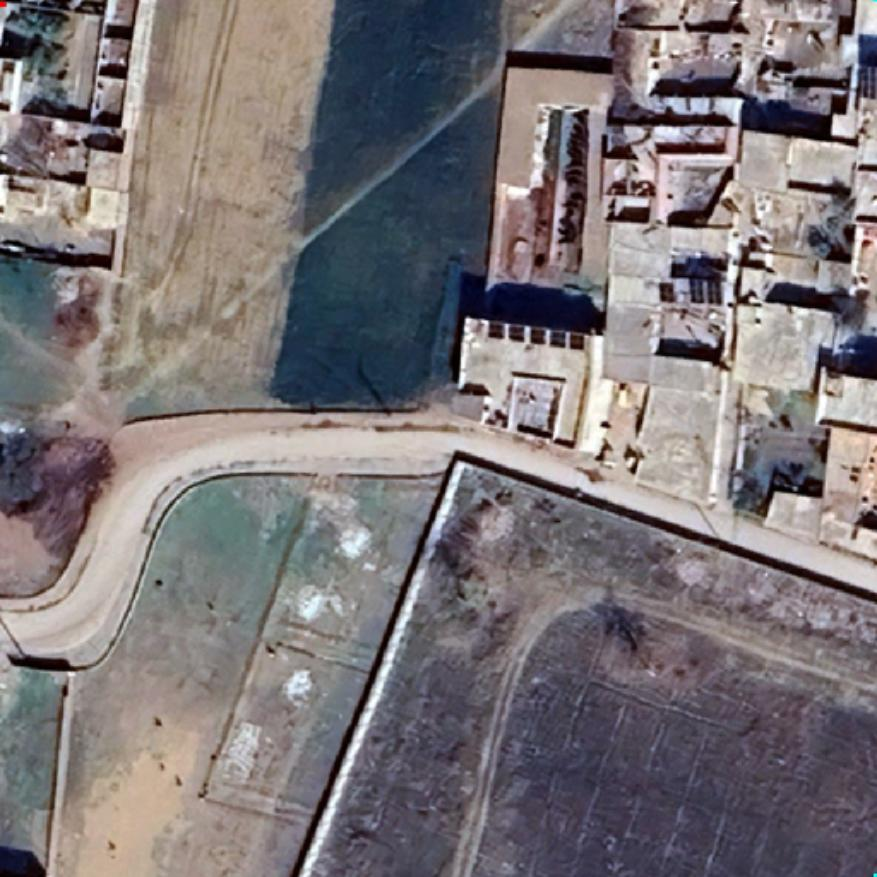Solarpanel: (485, 317, 588, 351), (685, 272, 725, 308), (854, 62, 877, 103)
